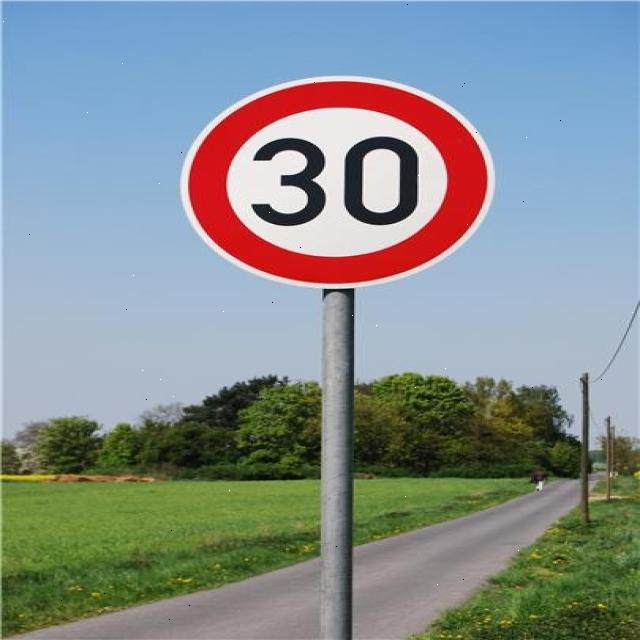speed limit 30: (183, 74, 496, 290)
